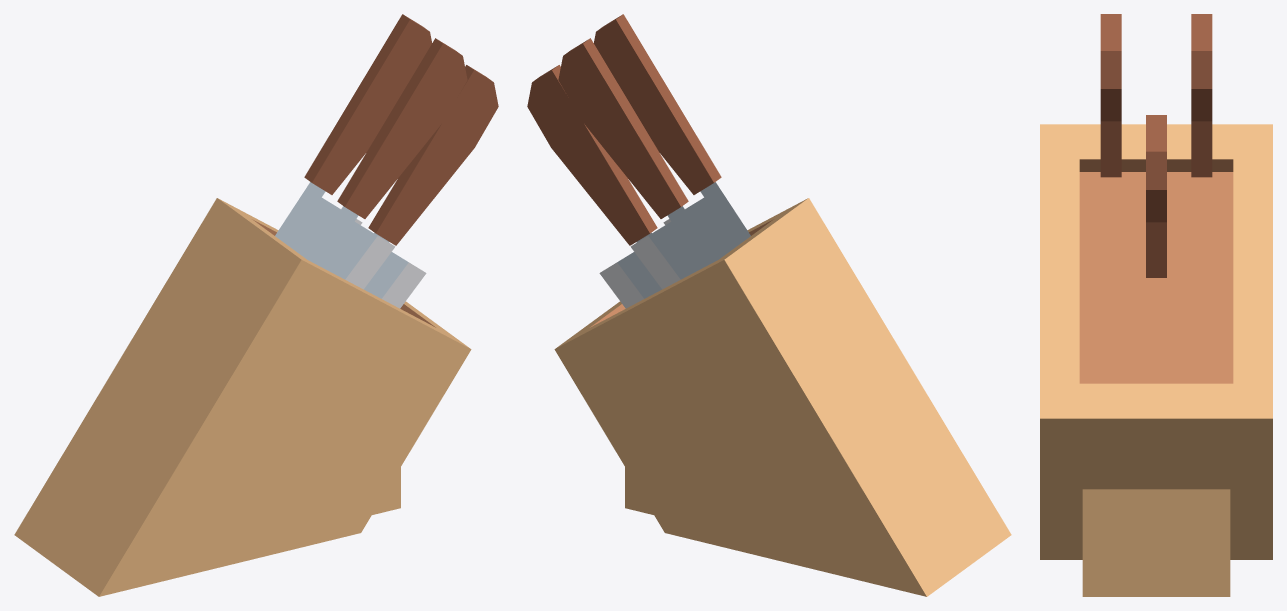
File: knifeBlock.fbx
3 renders of one model, left to right at view 1: azimuth 30°, elevation 25°; view 2: azimuth 150°, elevation 25°; view 3: azimuth 270°, elevation 25°, orthographic. The views are drawn at different scales.
Parts seen in each view (by area): view 1: knifeBlock, cookingKnife (×3); view 2: knifeBlock, cookingKnife (×3); view 3: knifeBlock, cookingKnife (×3).
Boxes of the visible parts, x1=… form: knifeBlock: x1=14, y1=198, x2=471, y2=596; cookingKnife (×3): x1=275, y1=14, x2=498, y2=308; knifeBlock: x1=554, y1=198, x2=1011, y2=596; cookingKnife (×3): x1=527, y1=14, x2=750, y2=308; knifeBlock: x1=1040, y1=124, x2=1272, y2=596; cookingKnife (×3): x1=1100, y1=14, x2=1212, y2=277.
Bounding box in the file's own units: 6.63 × 6.47 × 2.22.
